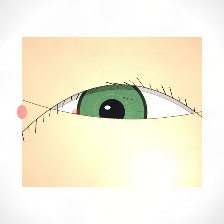hemorrhage_spot: (47, 88, 135, 158)
